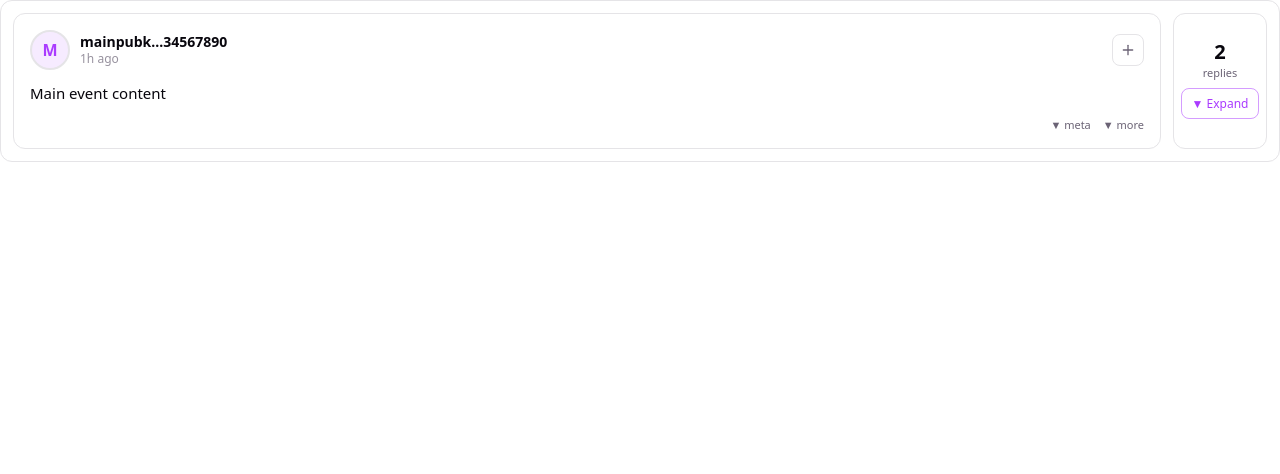
Thread › should render replies as NostrEventCards stacked under the main event
Click the button titled "Expand replies". click: (1220, 104)
box: top-left (1180, 88), bottom-right (1259, 119)
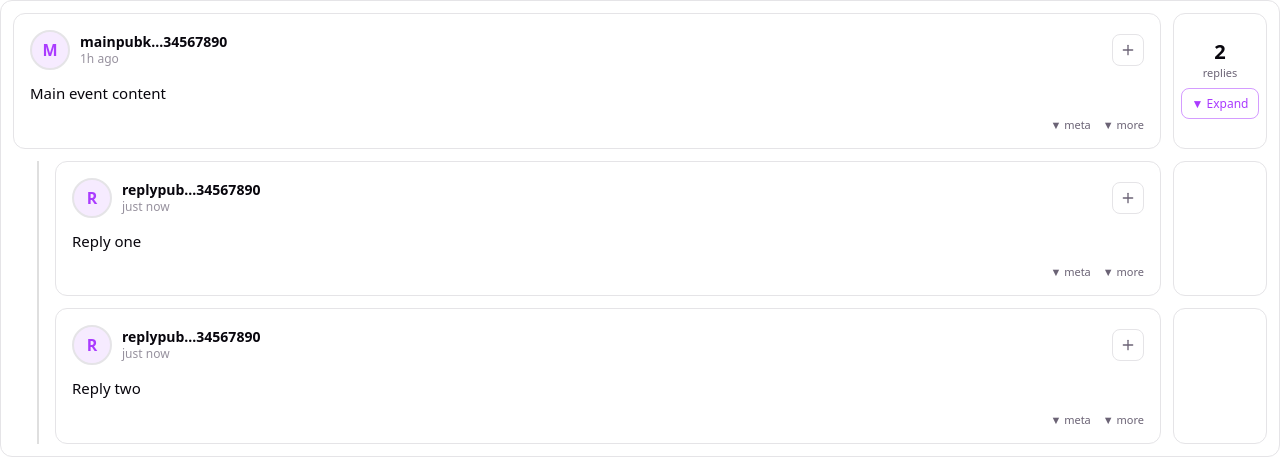
Result: the number of elements with class "nostr-card" is 3 at top-left (13, 13), bottom-right (1161, 148); top-left (55, 160), bottom-right (1161, 296); top-left (55, 308), bottom-right (1161, 444)
Result: the element with class "nostr-card" shows "Reply one" at top-left (72, 230), bottom-right (141, 250)
Result: the element with class "nostr-card" shows "Reply two" at top-left (72, 378), bottom-right (141, 398)
